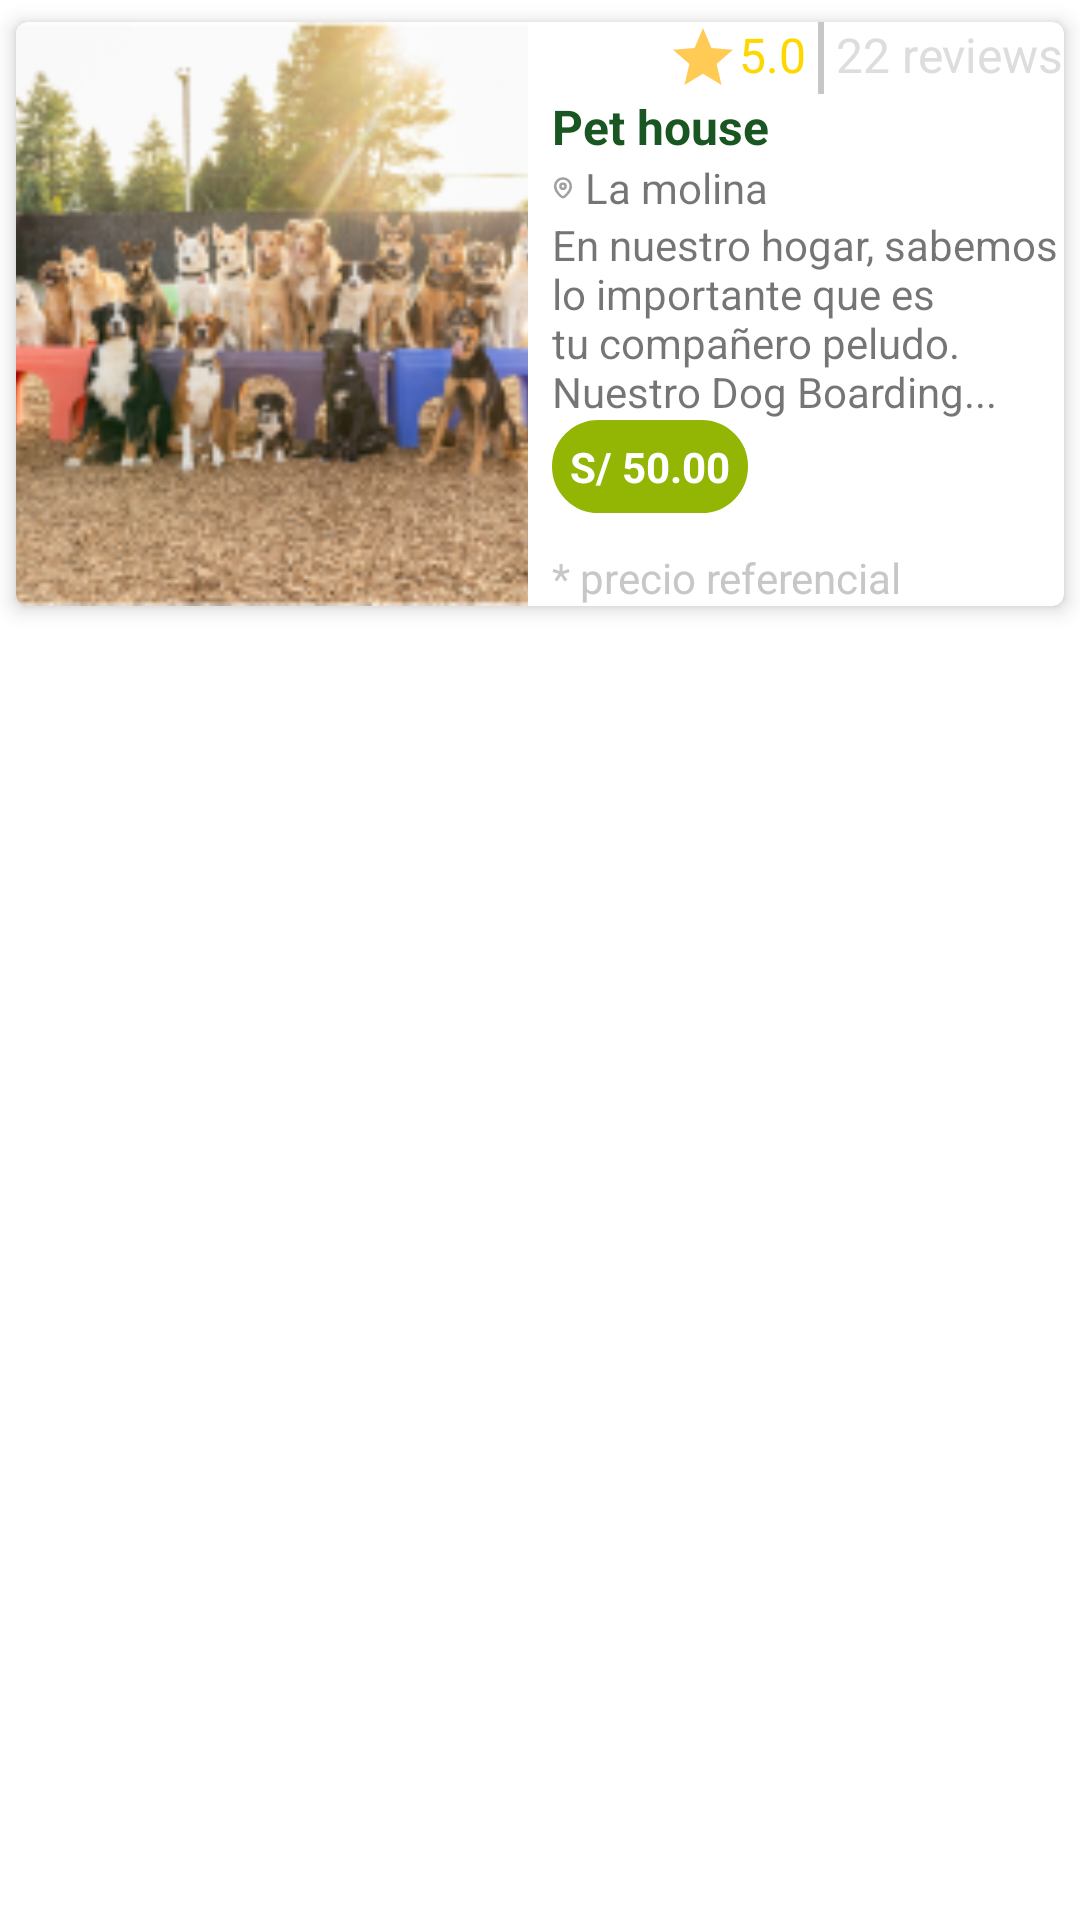

Named icons in this screenshot (1080 x 1920) and their centers, [x,y]:
star: [703,56]
